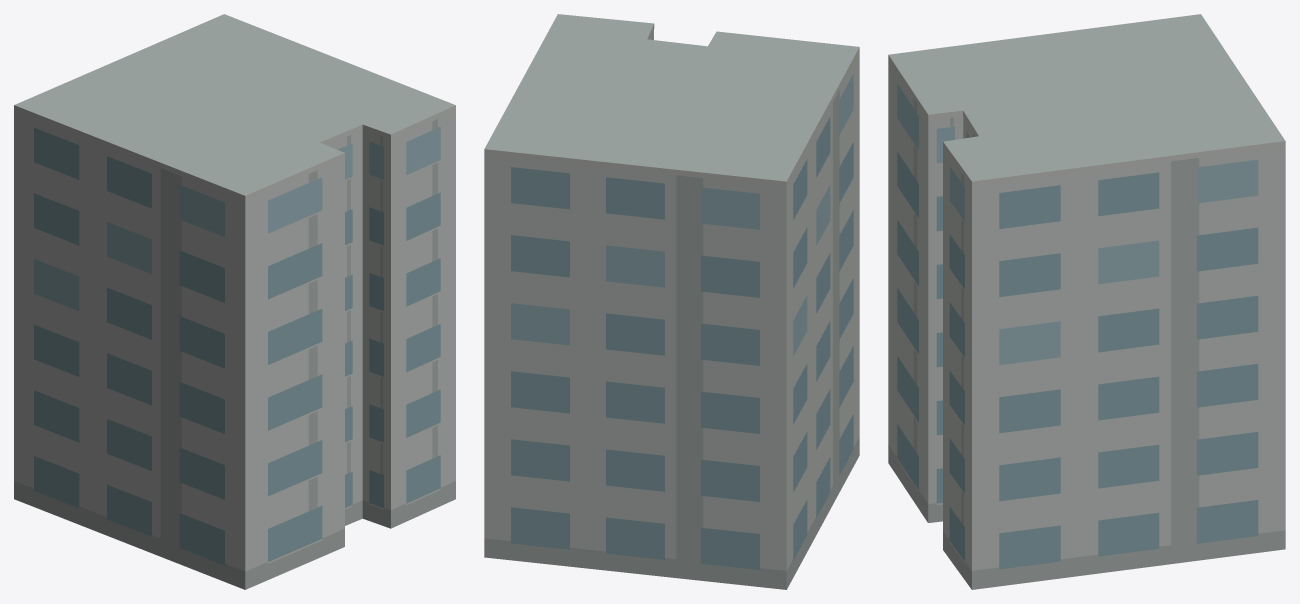
Rendered from survey-upis-32574005.glb.
3 views of the same model, side by side, from view 1: azimuth 30°, elevation 25°; view 2: azimuth 150°, elevation 25°; view 3: azimuth 270°, elevation 25° (orthographic). The views are drawn at different scales.
Parts seen in each view (by area): view 1: survey-upis-32574005.tmp; view 2: survey-upis-32574005.tmp; view 3: survey-upis-32574005.tmp.
Part boxes in pixels (left/top/right/bottom): survey-upis-32574005.tmp: left=14, top=14, right=455, bottom=589; survey-upis-32574005.tmp: left=484, top=14, right=859, bottom=589; survey-upis-32574005.tmp: left=888, top=14, right=1285, bottom=589.
Bounding box in the file's own units: 15.67 × 17.8 × 15.7.
